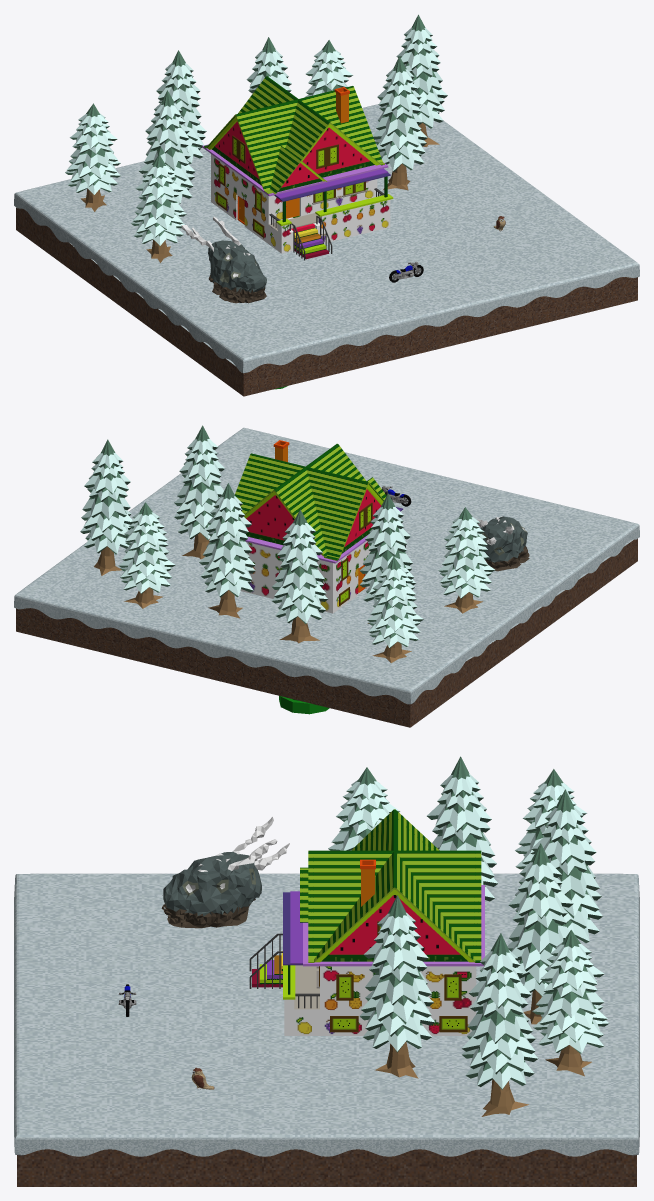
3 views of the same model, one above another, from view 1: azimuth 30°, elevation 25°; view 2: azimuth 150°, elevation 25°; view 3: azimuth 270°, elevation 25° (orthographic). The views are drawn at different scales.
Parts seen in each view (by area): view 1: Cube.003, Cube.1063, OBJRANDOM_METEORITE; view 2: Cube.003, Cube.1063, OBJRANDOM_METEORITE, UNDERGROUND_PIPES; view 3: Cube.003, Cube.1063, OBJRANDOM_METEORITE.
Boxes of the visible parts, box(x1,y1,x2,y2) form: Cube.003: box(14, 14, 639, 396); Cube.1063: box(202, 76, 393, 260); OBJRANDOM_METEORITE: box(181, 216, 266, 303); Cube.003: box(14, 425, 639, 727); Cube.1063: box(235, 440, 405, 613); OBJRANDOM_METEORITE: box(477, 516, 529, 571); UNDERGROUND_PIPES: box(279, 696, 329, 714); Cube.003: box(14, 756, 639, 1186); Cube.1063: box(249, 809, 484, 1035); OBJRANDOM_METEORITE: box(161, 817, 289, 928).
Bounding box in the file's own units: 4040 × 2275 × 4040.
Materials: 29 (5 with a texture image).
